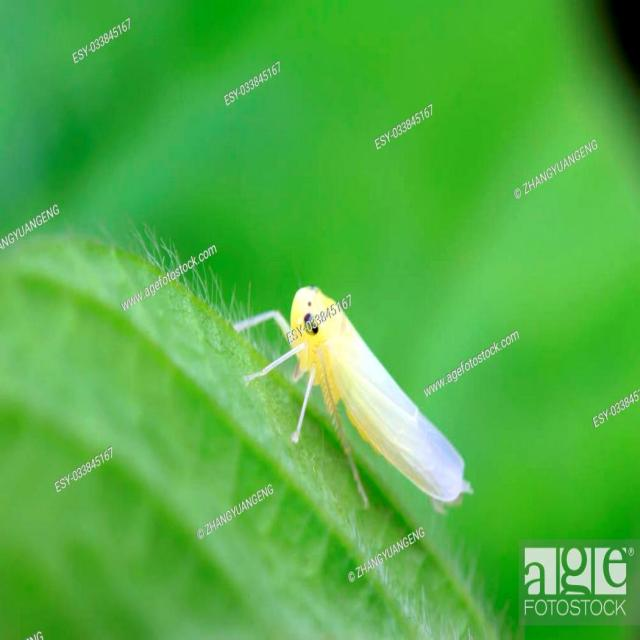Yechan: (244, 254, 490, 527)
